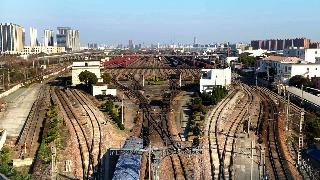train: (112, 137, 145, 179), (161, 93, 172, 104), (175, 70, 181, 78)
